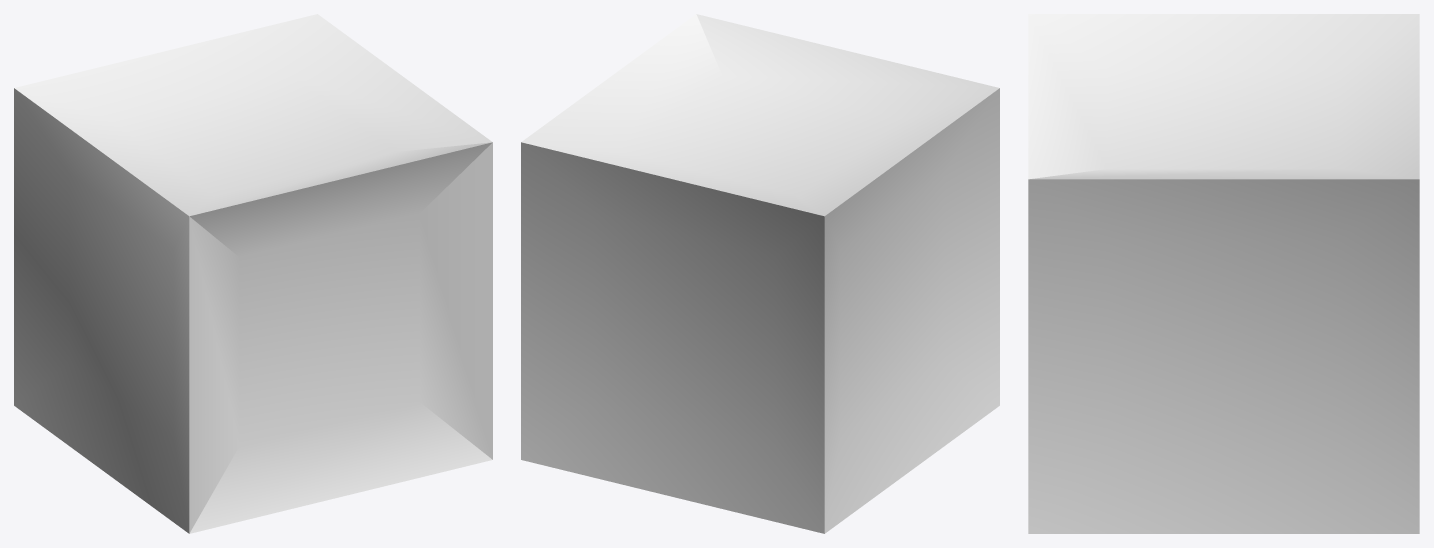
File: WoodCrateA.fbx
The picture shows the model from 3 angles, left to right: view 1: azimuth 30°, elevation 25°; view 2: azimuth 150°, elevation 25°; view 3: azimuth 270°, elevation 25°; orthographic projection. The views are drawn at different scales.
Parts seen in each view (by area): view 1: WoodCrateA; view 2: WoodCrateA; view 3: WoodCrateA.
Boxes of the visible parts, x1,y1,x2,y2 form: WoodCrateA: [14, 14, 492, 533]; WoodCrateA: [521, 14, 999, 533]; WoodCrateA: [1028, 14, 1419, 533].
Size of the model in its own units: 85.53 by 85.53 by 85.53.
1 material, 1 textured.
